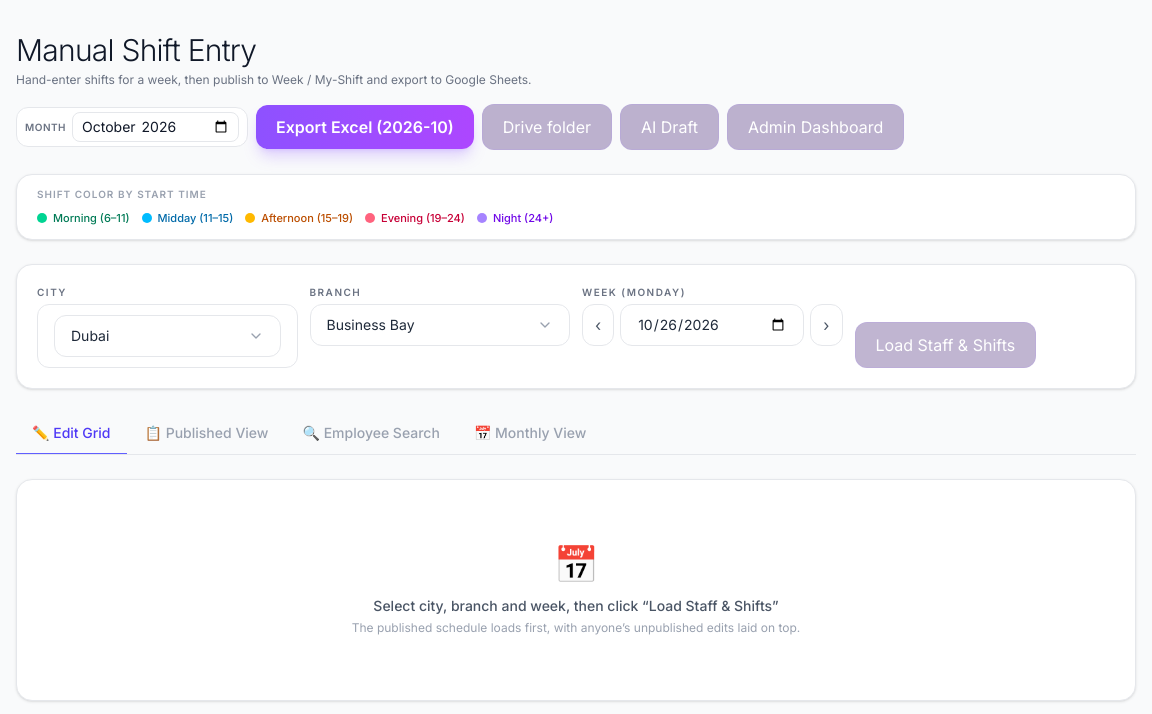
Test: ManualShiftPage — city selector › switching city to Manila resets staff list (returns to empty state)
Click the button "Load Staff & Shifts".
click(945, 344)  # box left=854, top=322, right=1036, bottom=368
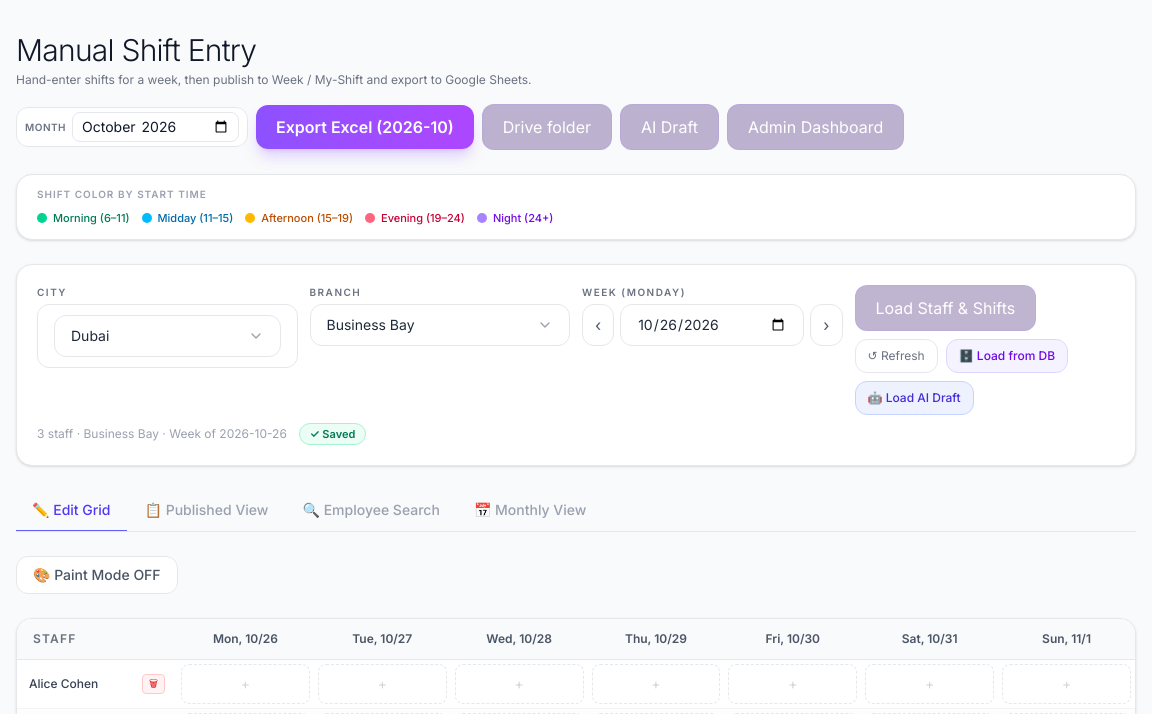
Now the text "Alice Cohen" is shown, box left=29, top=676, right=98, bottom=692
Click the dropdown.
click(167, 336)  # box left=54, top=314, right=280, bottom=356
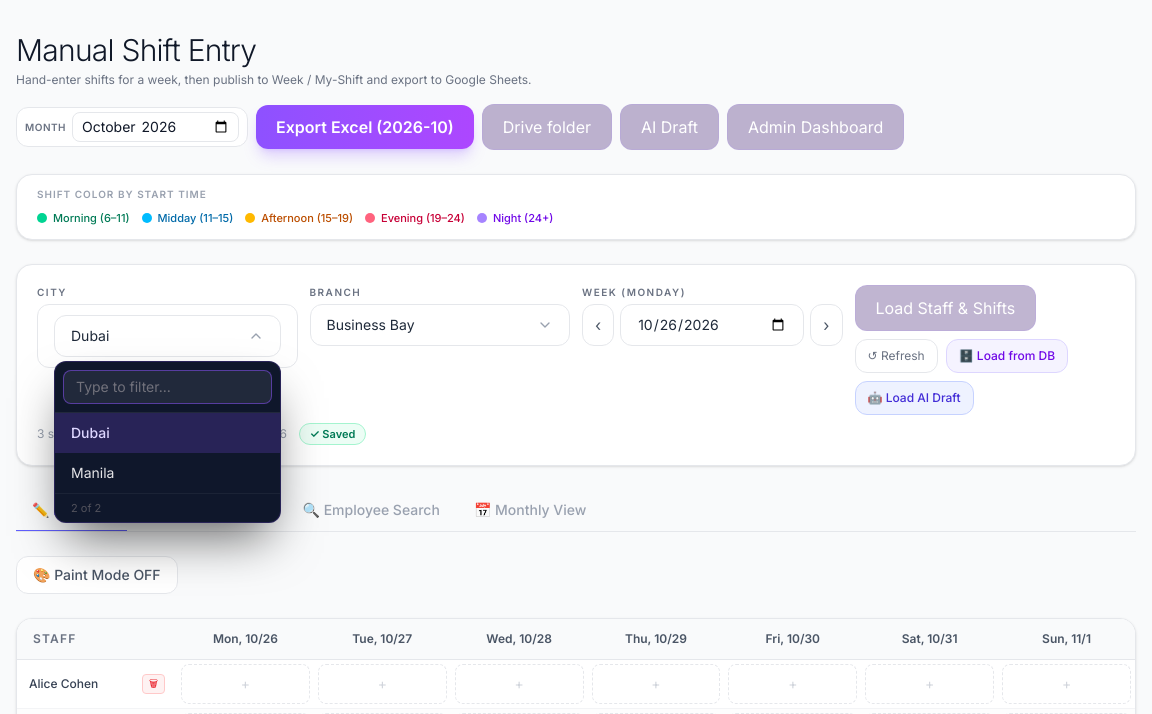
Click the option "Manila".
click(167, 472)  # box left=55, top=452, right=280, bottom=492
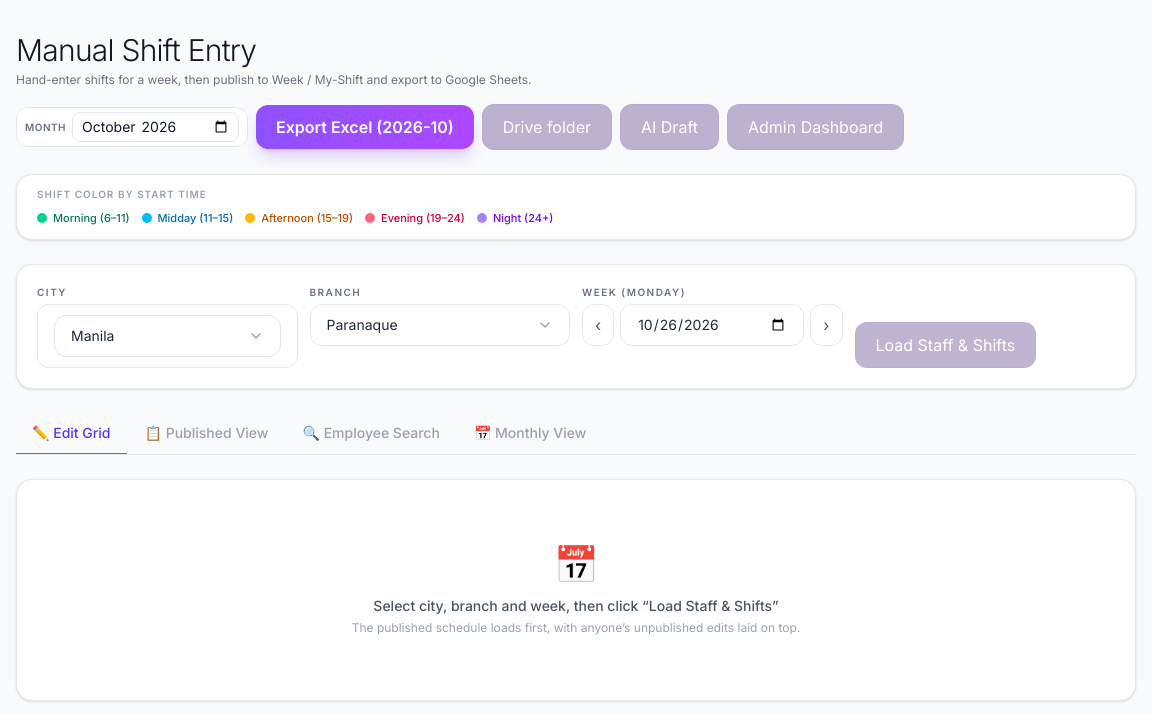
Now the text "Select city, branch and week" is shown, box left=373, top=596, right=779, bottom=614
